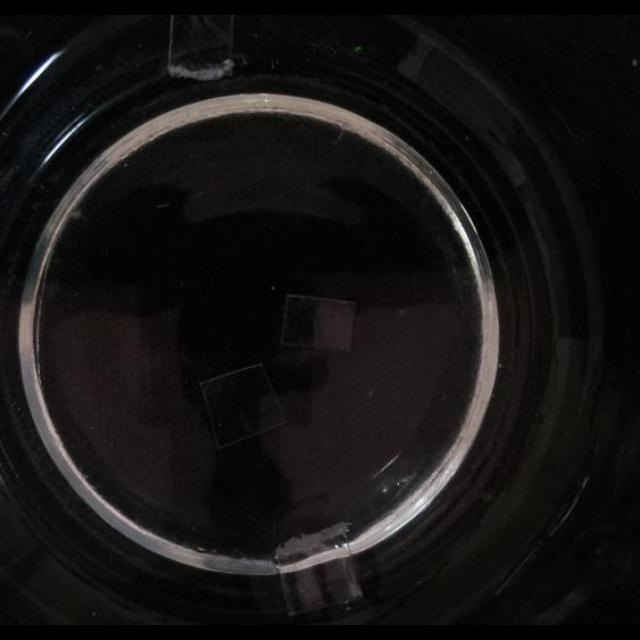Film: (196, 362, 288, 450), (272, 525, 364, 613), (280, 293, 356, 355), (168, 17, 236, 82)
